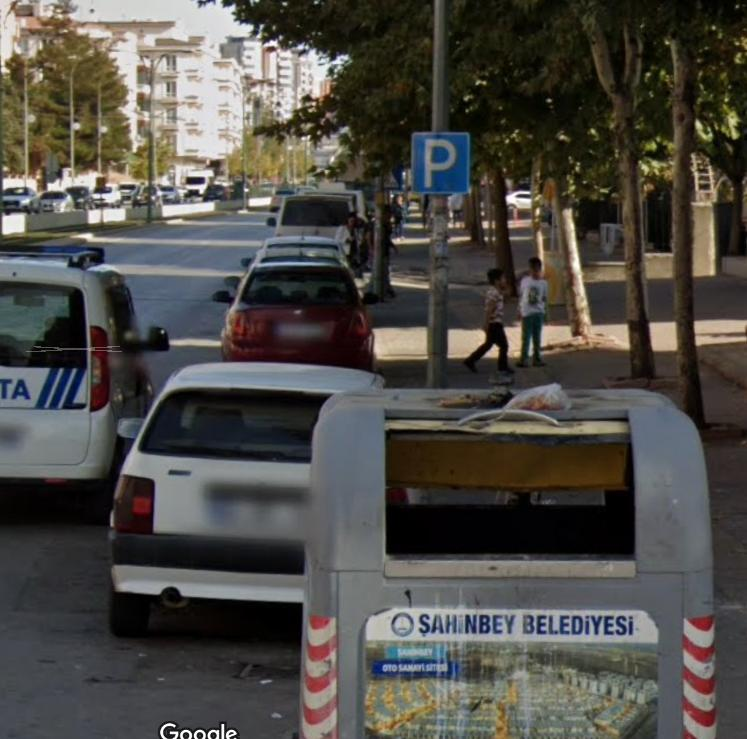park: (410, 136, 476, 193)
